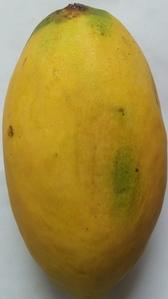Ripe: (1, 1, 168, 299)
